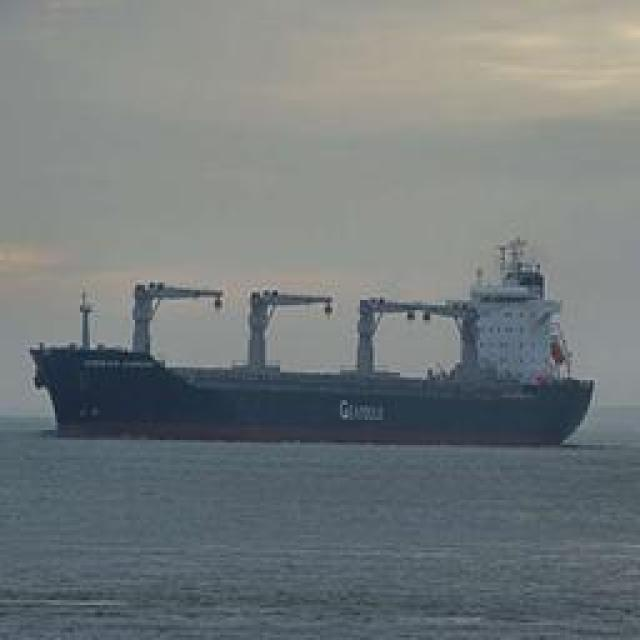CIV_Ship: (32, 248, 600, 448)
